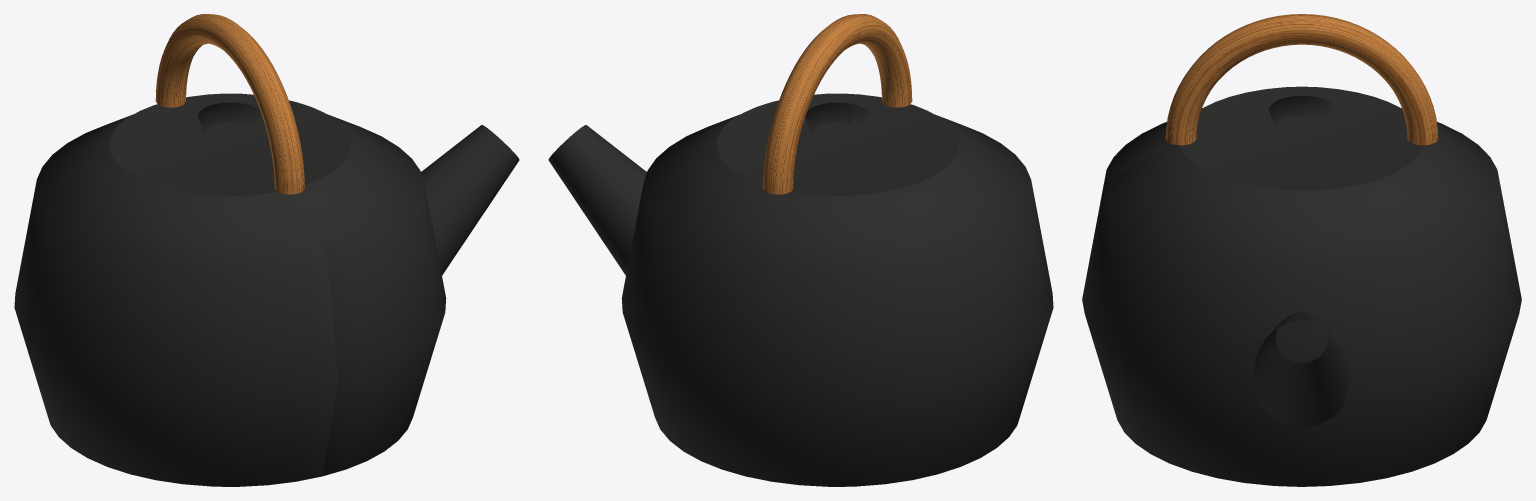
The model's file is CER-10.glb.
3 views of the same model, side by side, from view 1: azimuth 30°, elevation 25°; view 2: azimuth 150°, elevation 25°; view 3: azimuth 270°, elevation 25° (orthographic).
Bounding box in the file's own units: 0.1889 × 0.1565 × 0.15.
2 materials, 1 textured.
